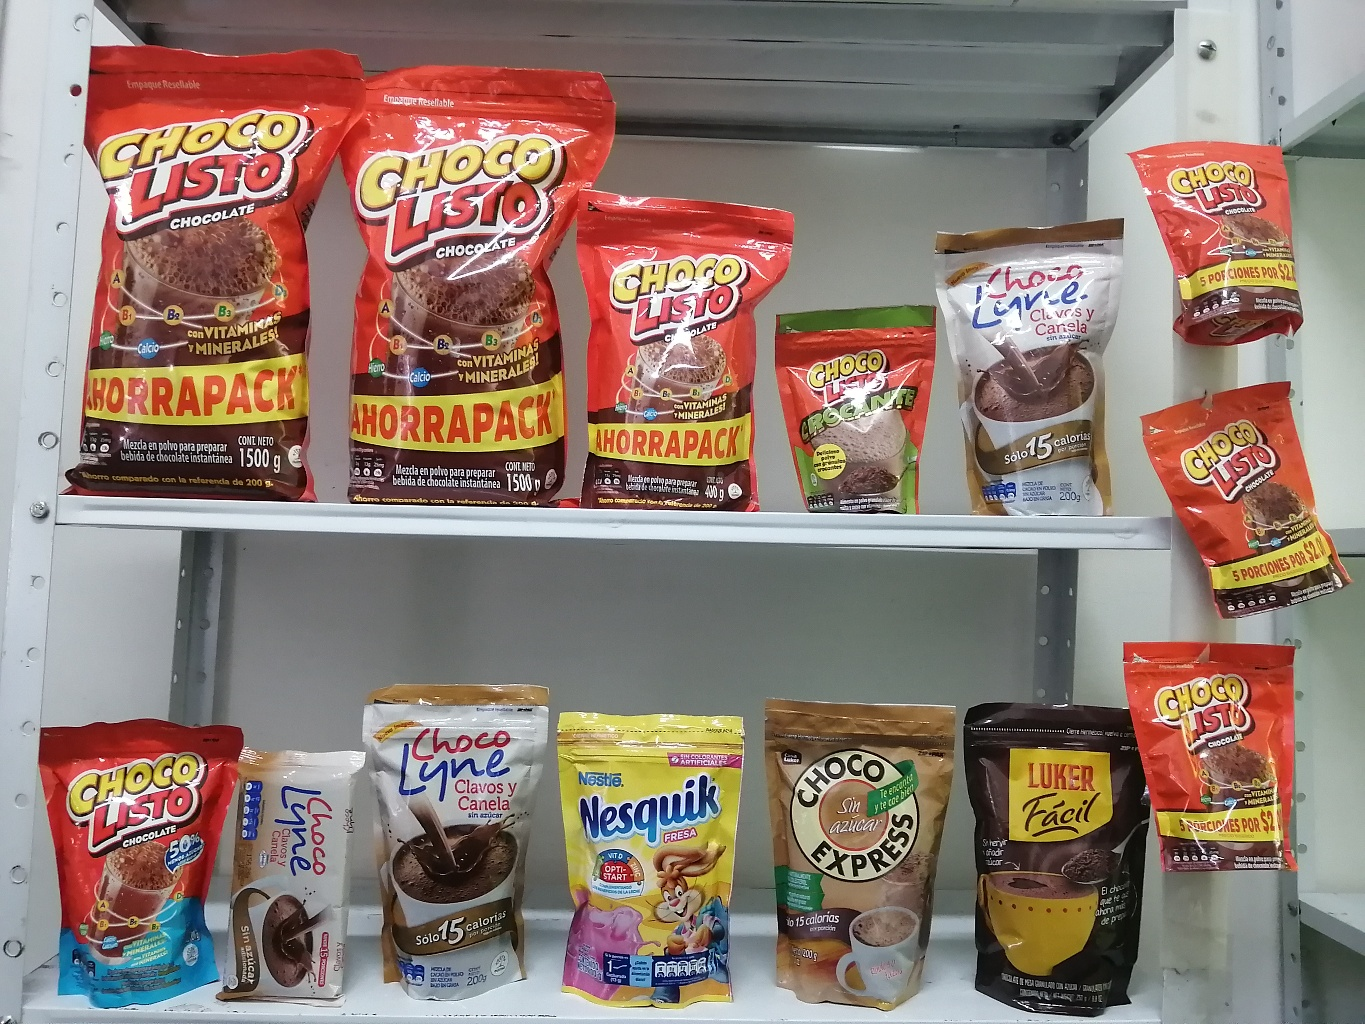COL0170102DYP10000: (772, 268, 932, 520)
COL0170103DYP1,500: (338, 46, 592, 509)
COL0170103DYP10000: (1126, 132, 1307, 358)
COL0170103DYP40000: (578, 170, 791, 509)
COL0170104DYP20000: (40, 709, 242, 1007)
COL0170305DYP20000: (544, 703, 742, 1007)
